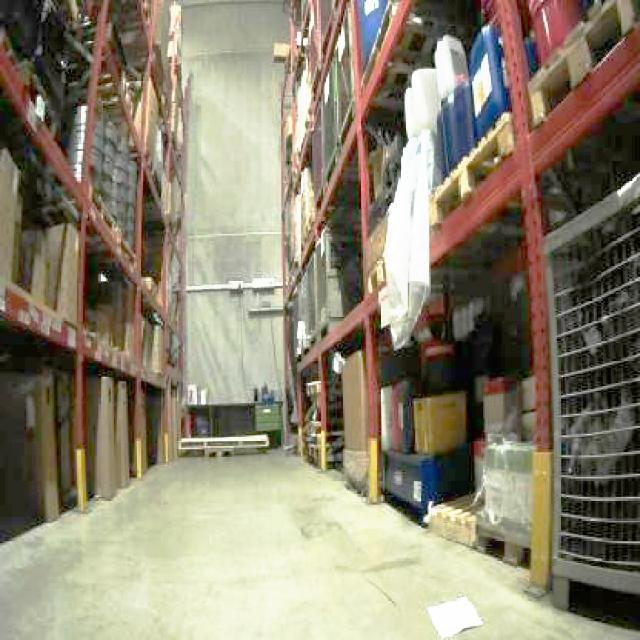ground: (0, 443, 638, 638)
pallet: (277, 0, 638, 635), (426, 0, 638, 228), (175, 432, 269, 457)
